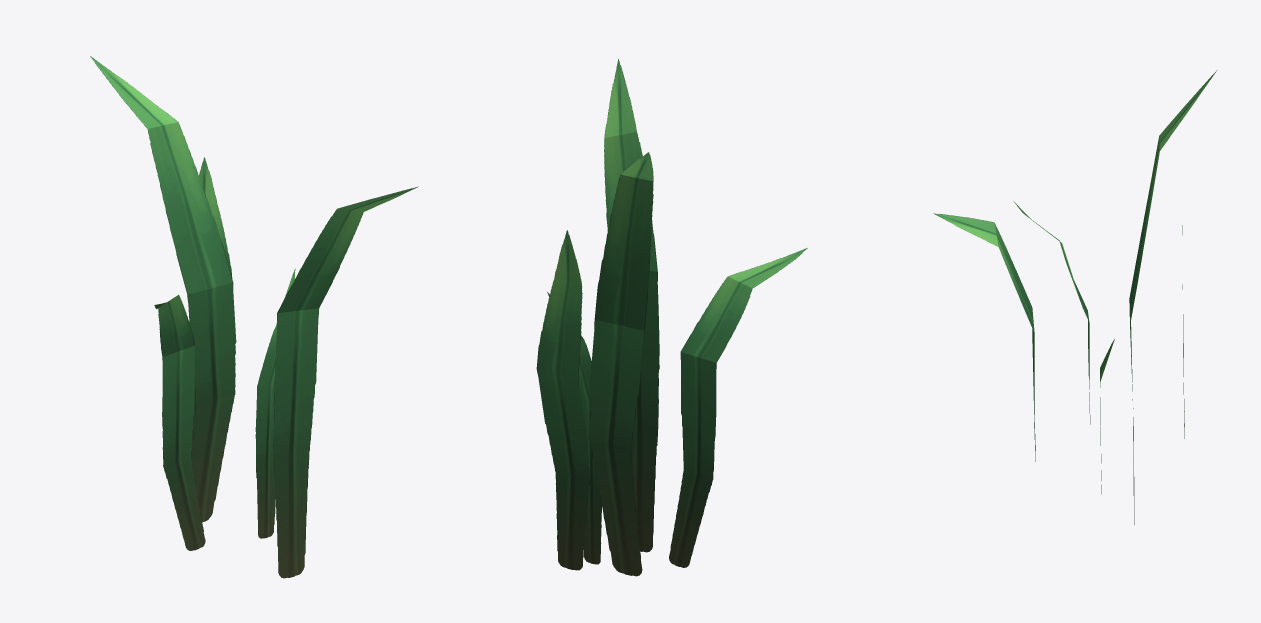
File: green grass 1.fbx
3 renders of one model, left to right at view 1: azimuth 30°, elevation 25°; view 2: azimuth 150°, elevation 25°; view 3: azimuth 270°, elevation 25°, orthographic. The views are drawn at different scales.
Visible parts, largest first — view 1: Grass green 1; view 2: Grass green 1; view 3: Grass green 1.
Part boxes in pixels (<box>): Grass green 1: <box>90,56,418,578</box>; Grass green 1: <box>536,59,807,576</box>; Grass green 1: <box>933,70,1217,524</box>.
Size of the model in its own units: 53.97 by 84.6 by 53.6.
